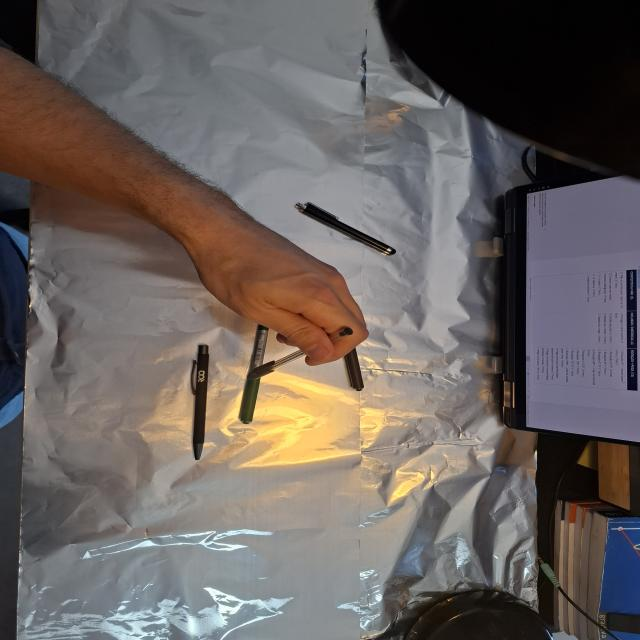glove_off: (186, 205, 372, 368)
